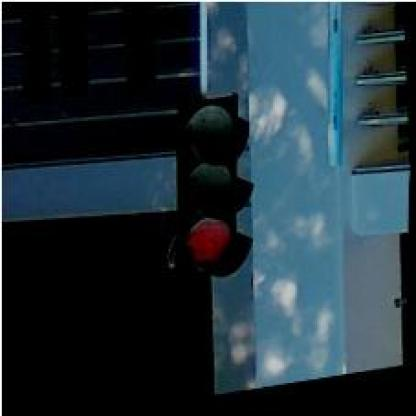red: (166, 96, 259, 285)
